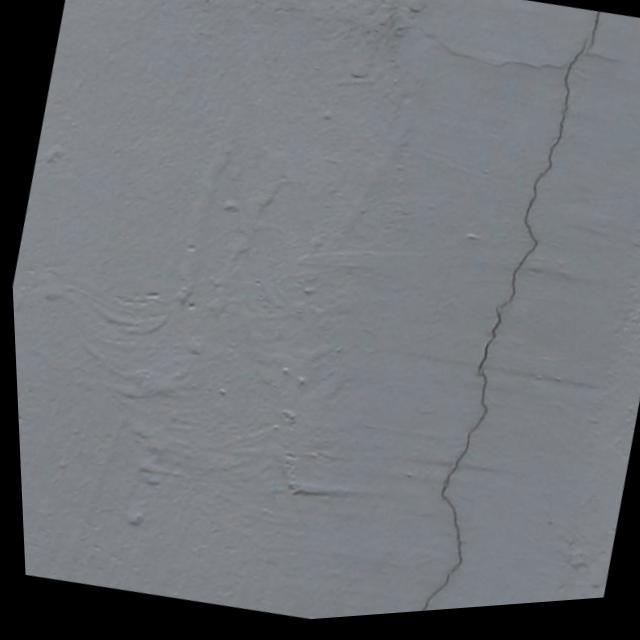Crack: (288, 0, 640, 623)
